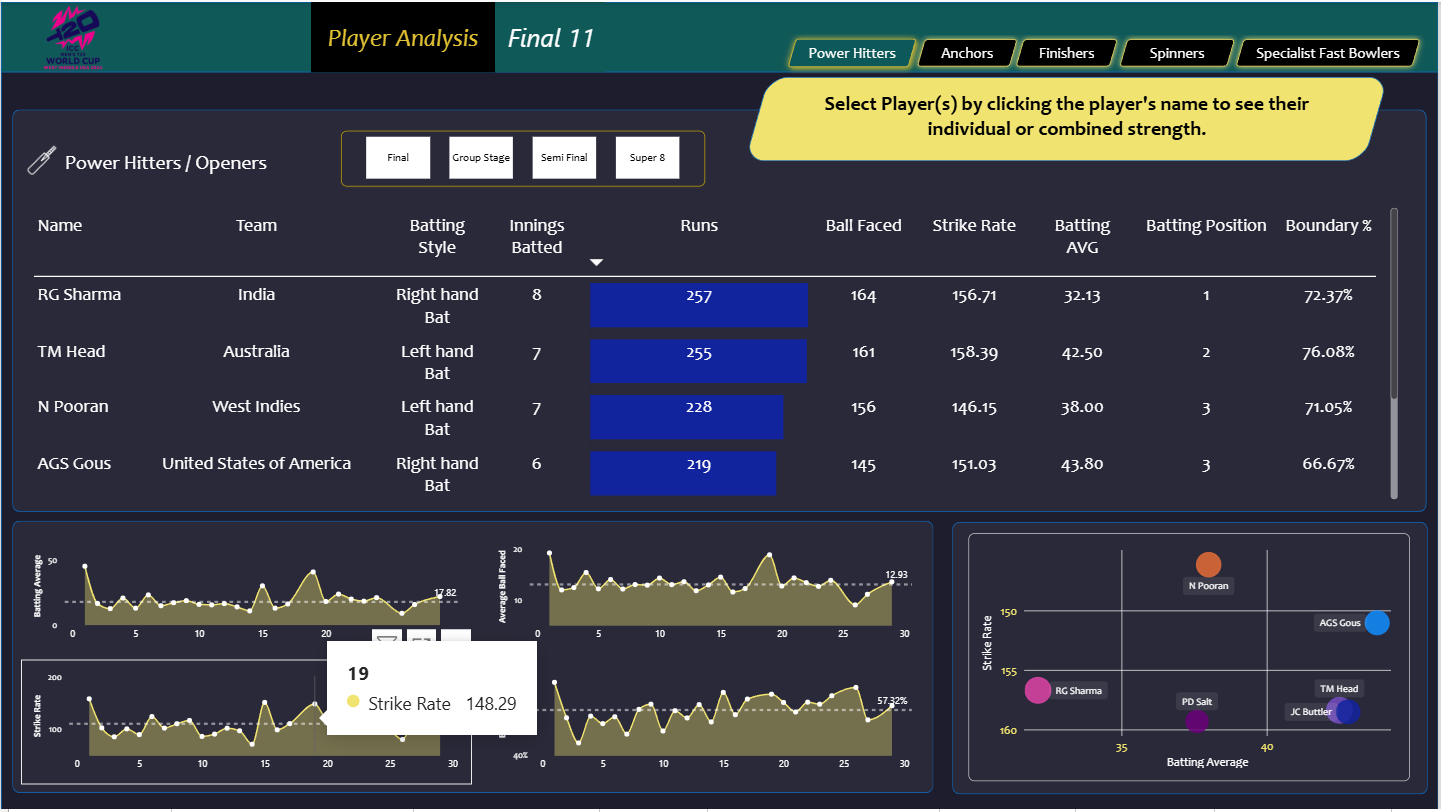

The dashboard page shown, as its layout file describes it:
{"tool":"powerbi","page":{"name":"Power Hitters","canvas":[1920,1080],"ordinal":0},"visuals":[{"type":"shape","box":[0,47.1,1920.1,1033.3],"z":0},{"type":"cardVisual","fields":{"Data":["Measures .Boundary %"]},"box":[1232.3,115.9,163.1,90.2],"z":0,"group":"g1"},{"type":"cardVisual","fields":{"Data":["Measures .Average Ball Faced"]},"box":[1371.1,113.5,162.9,90.2],"z":1000,"group":"g1"},{"type":"shape","box":[14.5,143,1889.3,537.5],"z":1000},{"type":"cardVisual","fields":{"Data":["Measures .Strike Rate"]},"box":[1506.8,111.7,151,90.2],"z":2000,"group":"g1"},{"type":"image","box":[27.1,191.8,56.1,38],"z":2000},{"type":"cardVisual","fields":{"Data":["Measures .Batting Average"]},"box":[1620.8,113.5,189.4,90.2],"z":3000,"group":"g1"},{"type":"shape","box":[1270.4,694.9,635.2,363.7],"z":3000},{"type":"tableEx","fields":{"Values":["dm_player_summary.Name","dm_player_summary.Team","dm_player_summary.BattingStyle","Measures .Total Innings Batted","Measures .Total Runs","Measures .Total Ball Faced","Measures .Strike Rate","Measures .Batting Average","Measures .Batting Position","Measures .Boundary %"]},"box":[27.1,260.6,1854.9,419.8],"z":4000},{"type":"shape","box":[0,0,1920,94],"z":5000},{"type":"scatterChart","fields":{"Category":["dm_player_summary.Name"],"Series":["dm_player_summary.Name"],"Size":["Measures .Total Runs"],"X":["Measures .Batting Average"],"Y":["Measures .Strike Rate"]},"box":[1292.1,709.4,589.9,331.2],"z":6000},{"type":"advancedSlicerVisual","fields":{"Values":["dm_match_summary.Stage"]},"box":[454.2,171.9,486.8,74.2],"z":7000},{"type":"shape","box":[58.4,181.6,323.5,64.7],"z":8000},{"type":"shape","box":[993.5,99.5,859.6,112.2],"z":9000},{"type":"shape","box":[1015.2,106.8,229.8,108.6],"z":10000},{"type":"shape","box":[14.5,693.1,1230.6,363.7],"z":11000},{"type":"areaChart","fields":{"Category":["dm_match_summary.Match_date.Variation.Date Hierarchy.Day"],"Y":["Measures .Batting Average"]},"box":[27.1,704,602.6,168.3],"z":12000},{"type":"areaChart","fields":{"Category":["dm_match_summary.Match_date.Variation.Date Hierarchy.Day"],"Y":["Measures .Average Ball Faced"]},"box":[647.9,705.8,584.5,166.5],"z":13000},{"type":"areaChart","fields":{"Category":["dm_match_summary.Match_date.Variation.Date Hierarchy.Day"],"Y":["Measures .Boundary %"]},"box":[647.9,877.7,584.5,168.3],"z":14000},{"type":"areaChart","fields":{"Category":["dm_match_summary.Match_date.Variation.Date Hierarchy.Day"],"Y":["Measures .Strike Rate"]},"box":[27.1,877.7,602.6,168.3],"z":15000},{"type":"shape","box":[414,0,246,94],"z":16000},{"type":"group","id":"g1","title":"Group 2","box":[1232.3,111.7,578,94.4],"z":17000},{"type":"actionButton","box":[1216,42,150.2,52.5],"z":18000},{"type":"actionButton","box":[1348.2,41.6,152,52.5],"z":19000},{"type":"actionButton","box":[1485.7,41.6,170.1,52.5],"z":20000},{"type":"actionButton","box":[1641.4,41.6,262.4,52.5],"z":21000},{"type":"actionButton","box":[660,0,150,94],"z":22000},{"type":"image","box":[0,0,192,94],"z":23000},{"type":"shape","box":[1042,40,190,56],"z":24000},{"type":"shape","box":[1062.3,112.2,723.9,79.6],"z":25000}]}

Visuals, with their boxes in screenshot pixels (x1, y1, x2, y2), scaled from the page's 1920x1080 canvas onto the 1441x812 screenshot:
shape: (0,35,1440,811)
cardVisual - Measures .Boundary %: (925,87,1047,155)
cardVisual - Measures .Average Ball Faced: (1029,85,1151,153)
shape: (11,108,1429,512)
cardVisual - Measures .Strike Rate: (1131,84,1244,152)
image: (20,144,62,173)
cardVisual - Measures .Batting Average: (1216,85,1359,153)
shape: (953,522,1430,796)
tableEx - dm_player_summary.Name x dm_player_summary.Team: (20,196,1412,512)
shape: (0,0,1440,71)
scatterChart - dm_player_summary.Name x dm_player_summary.Name: (970,533,1412,782)
advancedSlicerVisual - dm_match_summary.Stage: (341,129,706,185)
shape: (44,137,287,185)
shape: (746,75,1391,159)
shape: (762,80,934,162)
shape: (11,521,934,795)
areaChart - dm_match_summary.Match_date.Variation.Date Hierarchy.Day x Measures .Batting Average: (20,529,473,656)
areaChart - dm_match_summary.Match_date.Variation.Date Hierarchy.Day x Measures .Average Ball Faced: (486,531,925,656)
areaChart - dm_match_summary.Match_date.Variation.Date Hierarchy.Day x Measures .Boundary %: (486,660,925,786)
areaChart - dm_match_summary.Match_date.Variation.Date Hierarchy.Day x Measures .Strike Rate: (20,660,473,786)
shape: (311,0,495,71)
"Group 2" group: (925,84,1359,155)
actionButton: (913,32,1025,71)
actionButton: (1012,31,1126,71)
actionButton: (1115,31,1243,71)
actionButton: (1232,31,1429,71)
actionButton: (495,0,608,71)
image: (0,0,144,71)
shape: (782,30,925,72)
shape: (797,84,1341,144)
